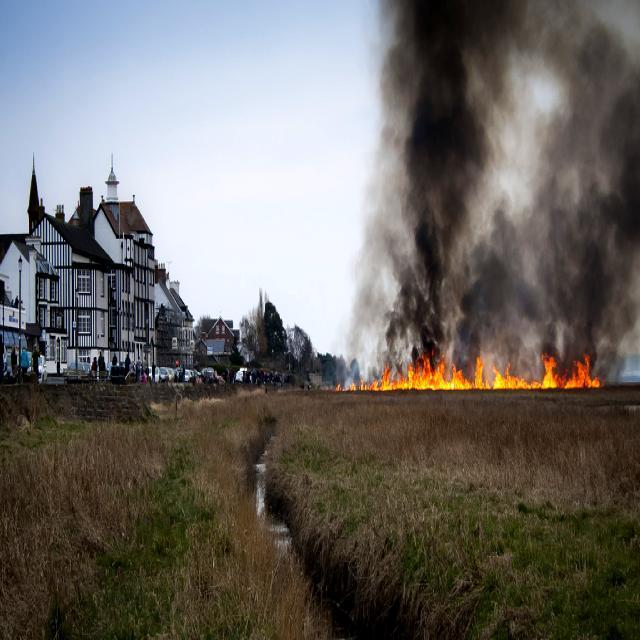Fire: (364, 355, 597, 391), (334, 382, 364, 394)
Smoke: (350, 0, 640, 347)
